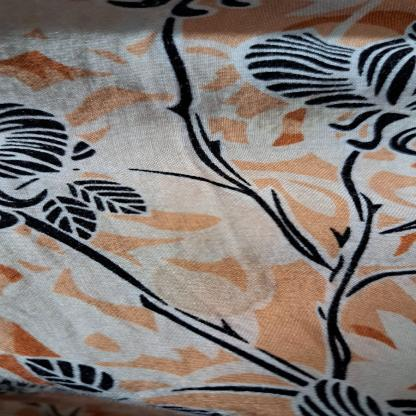spot: (156, 186, 266, 316), (252, 97, 291, 134)
